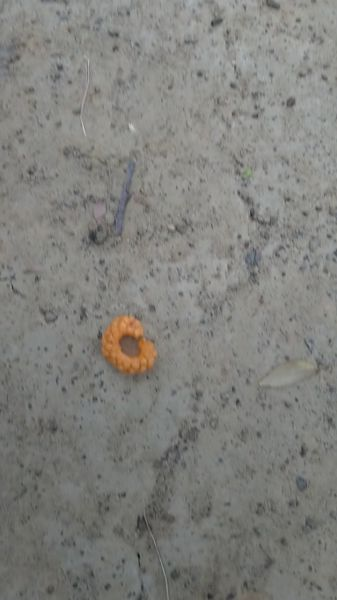eggs: (94, 308, 166, 383)
